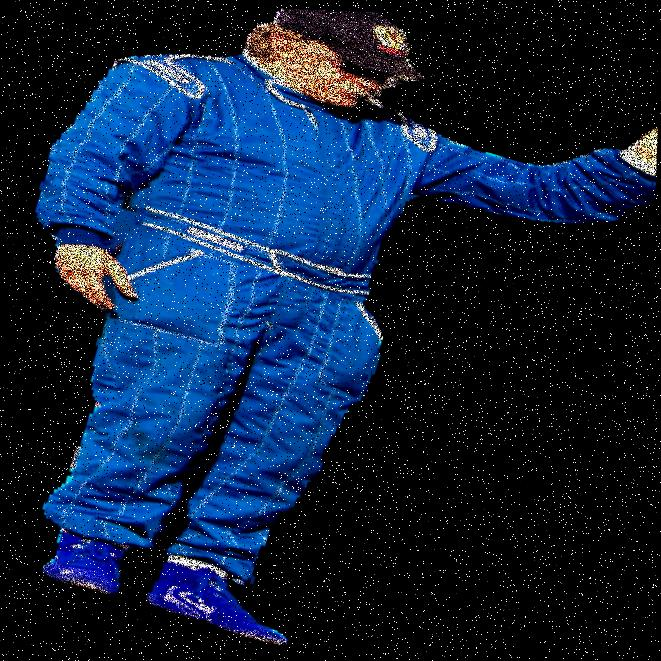Pessoa: (107, 0, 397, 660)
